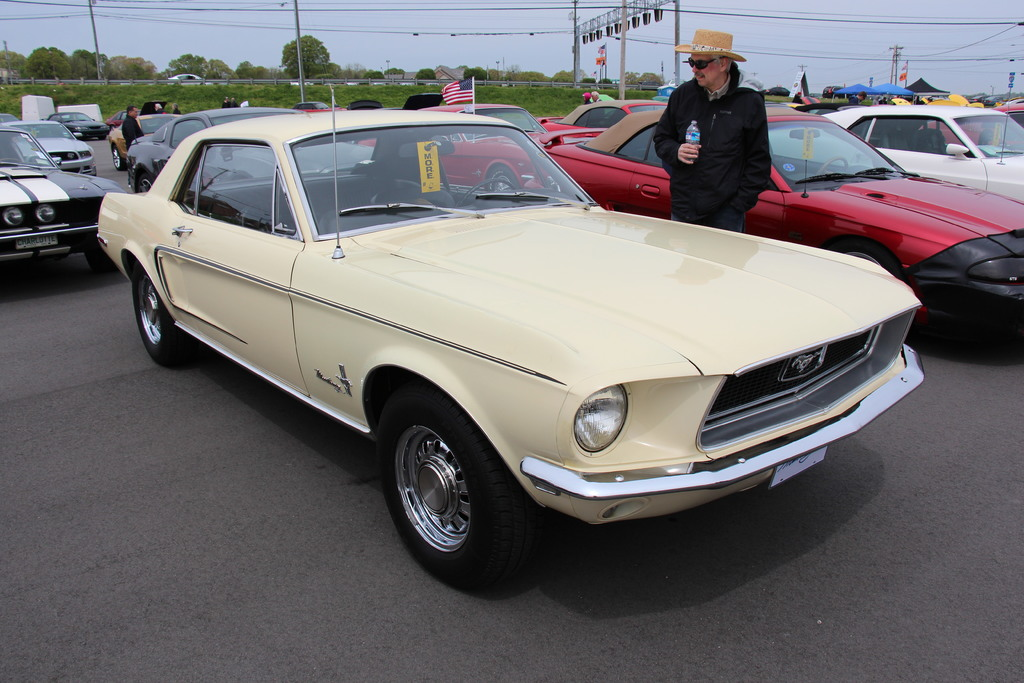Car: (0, 78, 1023, 577)
